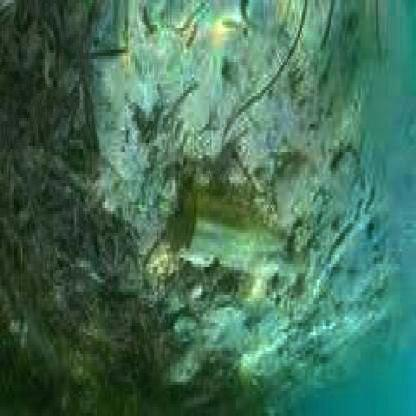gbottle: (178, 189, 316, 294)
